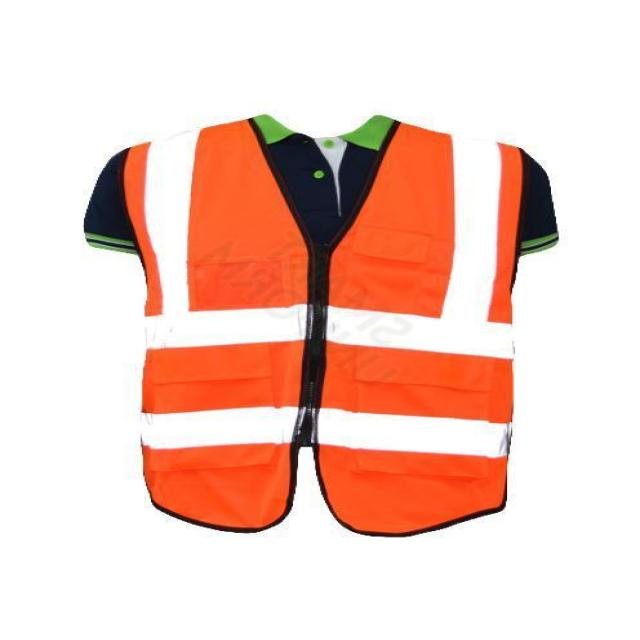jacket: (80, 101, 560, 545)
